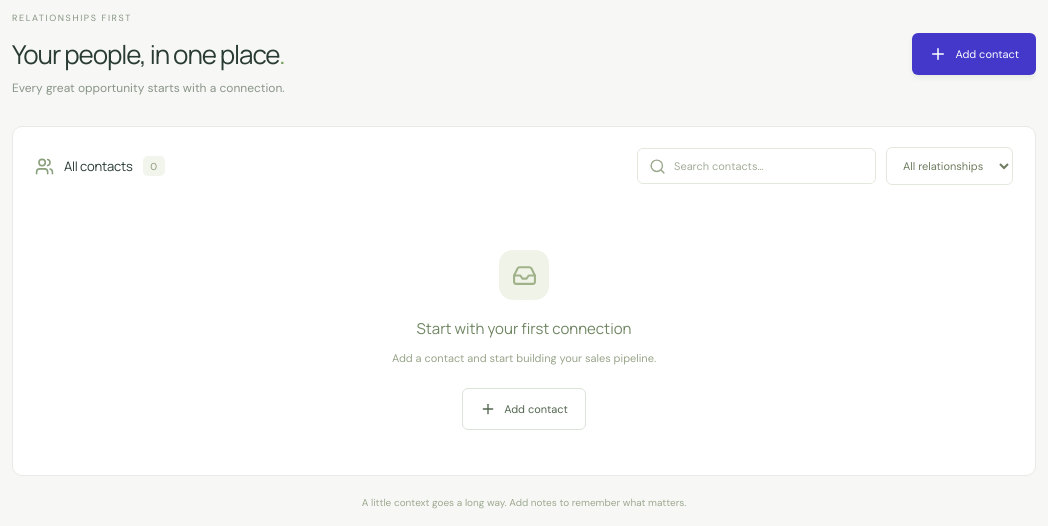
Test: contact workflows › shows empty filtered results
Expected: the heading "Start with your first connection" is shown, [417, 318, 632, 339]
Type "missing" into the search field labelled "Search contacts" at (769, 166), box [674, 149, 864, 183]
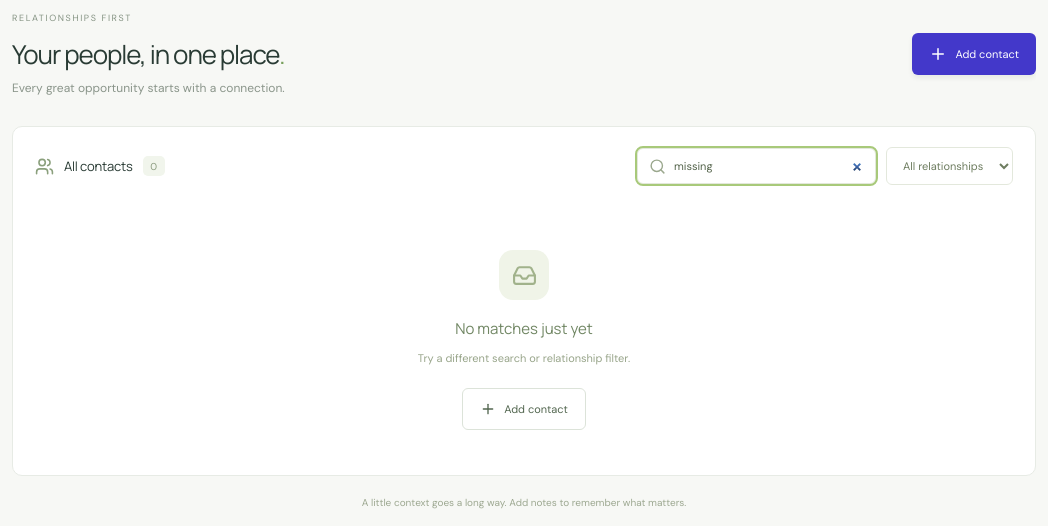
Expected: the heading "No matches just yet" is shown, [455, 318, 593, 339]
